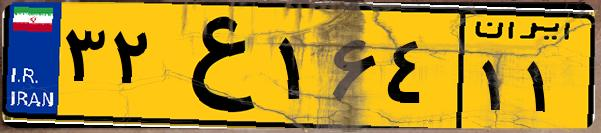1: (270, 28, 330, 110), (475, 38, 525, 113), (525, 38, 570, 115)
2: (110, 28, 158, 98)
3: (57, 26, 110, 100)
4: (385, 28, 445, 110)
6: (330, 28, 385, 110)
ع: (158, 12, 270, 120)
